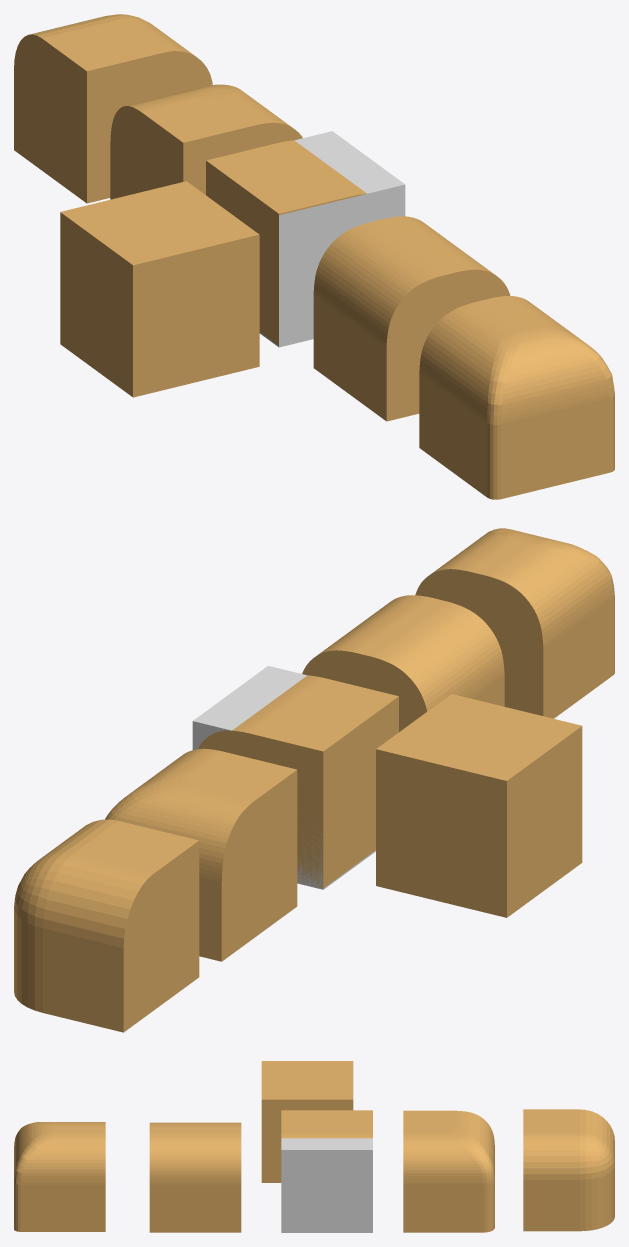
File: Map_Borders (1).fbx
3 renders of one model, top to bottom at view 1: azimuth 30°, elevation 25°; view 2: azimuth 150°, elevation 25°; view 3: azimuth 270°, elevation 25°, orthographic. The views are drawn at different scales.
Visible parts, largest first — view 1: Cube.005, Cube.003, Cube.004, Cube.006, Cube.002, Cube, Cube.001; view 2: Cube.005, Cube.006, Cube.003, Cube.002, Cube, Cube.004, Cube.001; view 3: Cube.002, Cube.006, Cube.004, Cube.003, Cube.001, Cube.005, Cube.
Part boxes in pixels (x1,y1,x2,y2): Cube.005: (60, 181, 259, 397); Cube.003: (419, 296, 614, 499); Cube.004: (313, 216, 510, 421); Cube.006: (14, 14, 212, 203); Cube.002: (110, 84, 302, 199); Cube: (206, 140, 366, 345); Cube.001: (259, 131, 405, 347); Cube.005: (376, 694, 582, 917); Cube.006: (14, 819, 199, 1032); Cube.003: (415, 528, 614, 718); Cube.002: (105, 748, 297, 961); Cube: (198, 675, 398, 888); Cube.004: (302, 595, 504, 731); Cube.001: (192, 666, 375, 889); Cube.002: (403, 1110, 494, 1232); Cube.006: (523, 1109, 614, 1231); Cube.004: (149, 1122, 241, 1232); Cube.003: (14, 1122, 105, 1231); Cube.001: (281, 1138, 372, 1232); Cube.005: (261, 1061, 353, 1182); Cube: (281, 1110, 372, 1138).
Bounding box in the file's own units: 460 × 204 × 1311.
